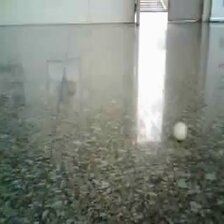w: (172, 121, 189, 142)
